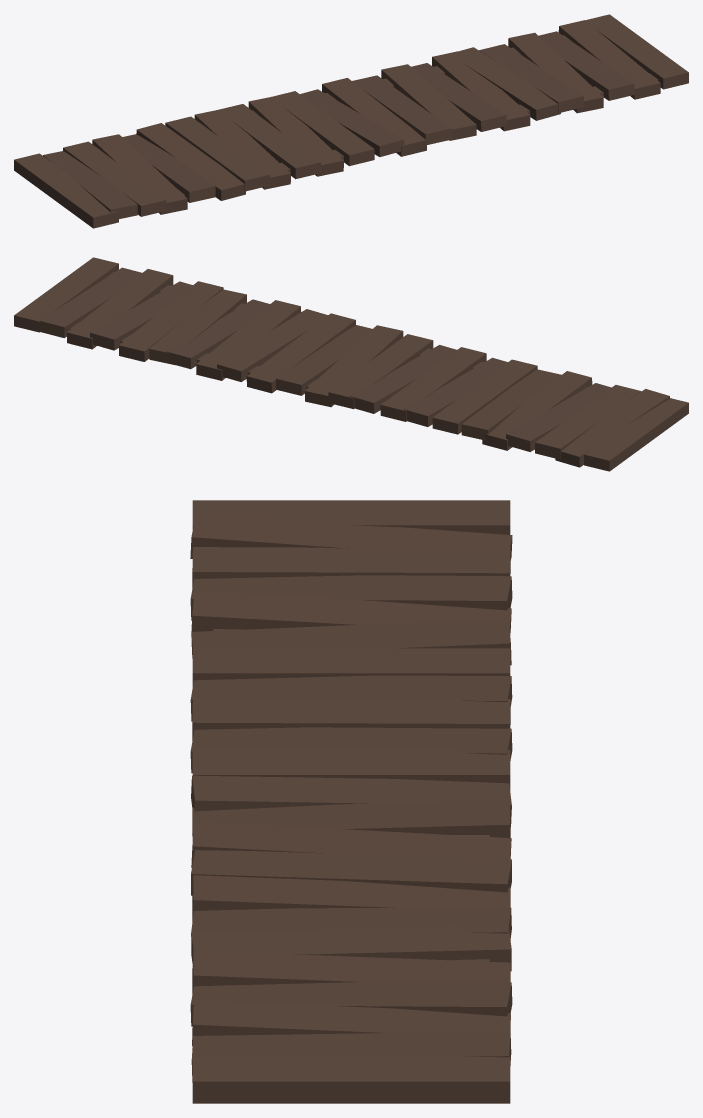
The model's file is M_Bridge.fbx.
3 renders of one model, top to bottom at view 1: azimuth 30°, elevation 25°; view 2: azimuth 150°, elevation 25°; view 3: azimuth 270°, elevation 25°, orthographic. The views are drawn at different scales.
Visible parts, largest first — view 1: pCube199, pCube200, pCube214, pCube195, pCube212, pCube202, pCube198, pCube205, pCube216, pCube201, pCube209, pCube206 (+11 smaller); view 2: pCube199, pCube210, pCube200, pCube208, pCube196, pCube205, pCube212, pCube195, pCube198, pCube211, pCube215, pCube216 (+11 smaller); view 3: pCube195, pCube212, pCube216, pCube200, pCube205, pCube198, pCube209, pCube196, pCube208, pCube211, pCube197, pCube215 (+11 smaller).
Boxes of the visible parts, x1,y1,x2,y2 form: pCube199: (14, 153, 118, 228); pCube200: (165, 116, 270, 191); pCube214: (136, 123, 245, 200); pCube195: (585, 14, 688, 89); pCube212: (221, 104, 321, 179); pCube202: (558, 20, 660, 99); pCube198: (275, 91, 374, 166); pCube205: (381, 64, 476, 140); pCube216: (63, 141, 166, 216); pCube201: (322, 78, 426, 156); pCube209: (459, 47, 560, 120); pCube206: (248, 96, 343, 176); pCube199: (584, 398, 688, 471); pCube210: (246, 313, 355, 393); pCube200: (432, 359, 537, 434); pCube208: (67, 269, 173, 349); pCube196: (119, 281, 223, 361); pCube205: (217, 309, 327, 381); pCube212: (380, 347, 486, 421); pCube195: (14, 257, 118, 332); pCube198: (328, 334, 433, 409); pCube211: (305, 325, 403, 407); pCube215: (482, 371, 592, 450); pCube216: (535, 385, 641, 459); pCube195: (192, 1056, 510, 1103); pCube212: (192, 698, 510, 740); pCube216: (192, 547, 510, 588); pCube200: (192, 648, 510, 686); pCube205: (191, 850, 511, 895); pCube198: (192, 750, 510, 790); pCube209: (191, 925, 511, 971); pCube196: (192, 950, 510, 994); pCube208: (192, 1000, 510, 1046); pCube211: (191, 775, 511, 826); pCube197: (192, 875, 510, 921); pCube215: (191, 590, 511, 636).
Size of the model in its own units: 34.64 by 1 by 8.11.
